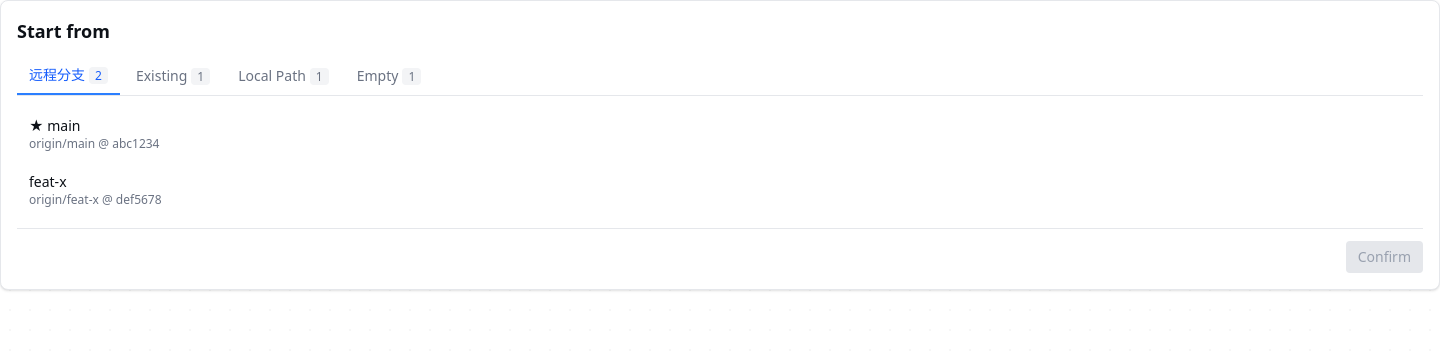
StartFromPicker › confirm disabled until selection made, enabled after
This screenshot has width=1440, height=352.
Expected: the button with test id "start-from-picker-confirm" is disabled, [1346,241,1423,273]
What coordinates should you click on to do the following:
click the option "★ main origin/main @ abc1234"
I would click on:
 (94, 134)
Its box is [29,116,160,152].
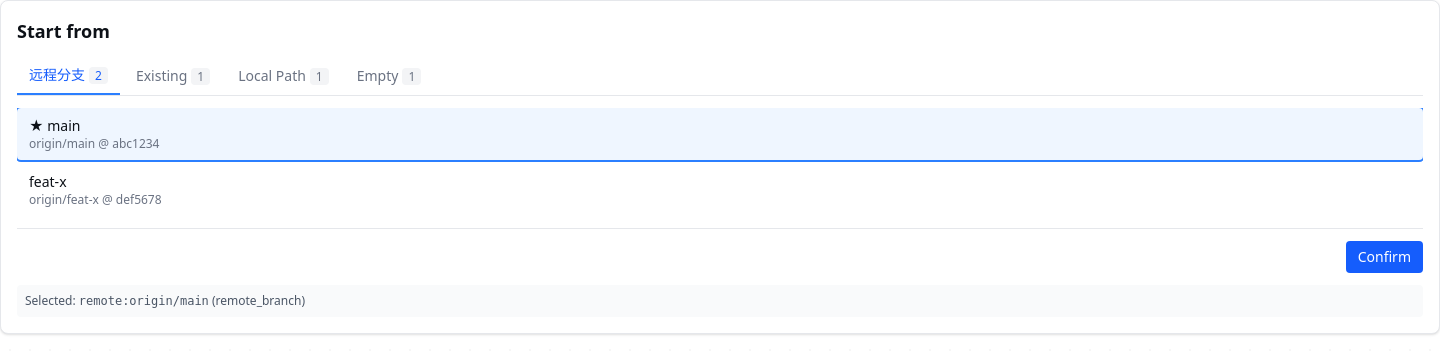
Expected: the button with test id "start-from-picker-confirm" is enabled, [1346,241,1423,273]
